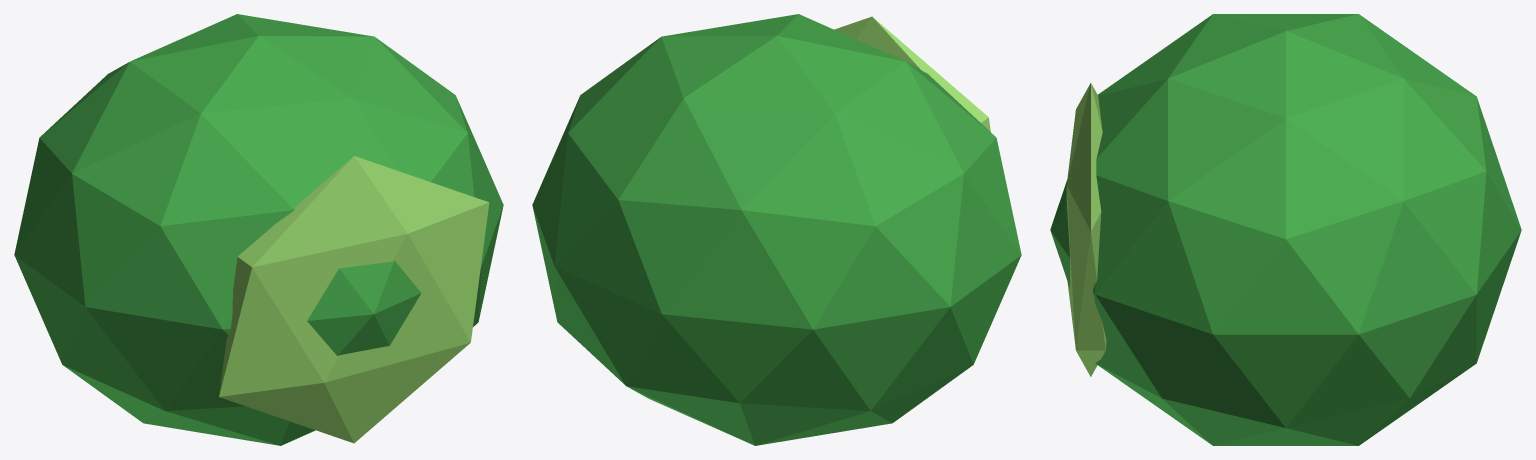
The model's file is harvest_drop_watermelon.glb.
3 views of the same model, side by side, from view 1: azimuth 30°, elevation 25°; view 2: azimuth 150°, elevation 25°; view 3: azimuth 270°, elevation 25° (orthographic). The views are drawn at different scales.
Parts seen in each view (by area): view 1: FTF_Harvest_Drop_Watermelon_Mesh; view 2: FTF_Harvest_Drop_Watermelon_Mesh; view 3: FTF_Harvest_Drop_Watermelon_Mesh.
Boxes of the visible parts, x1,y1,x2,y2 form: FTF_Harvest_Drop_Watermelon_Mesh: (14,14,503,445); FTF_Harvest_Drop_Watermelon_Mesh: (532,14,1021,445); FTF_Harvest_Drop_Watermelon_Mesh: (1050,14,1521,445).
Size of the model in its own units: 0.6087 by 0.54 by 0.58.
